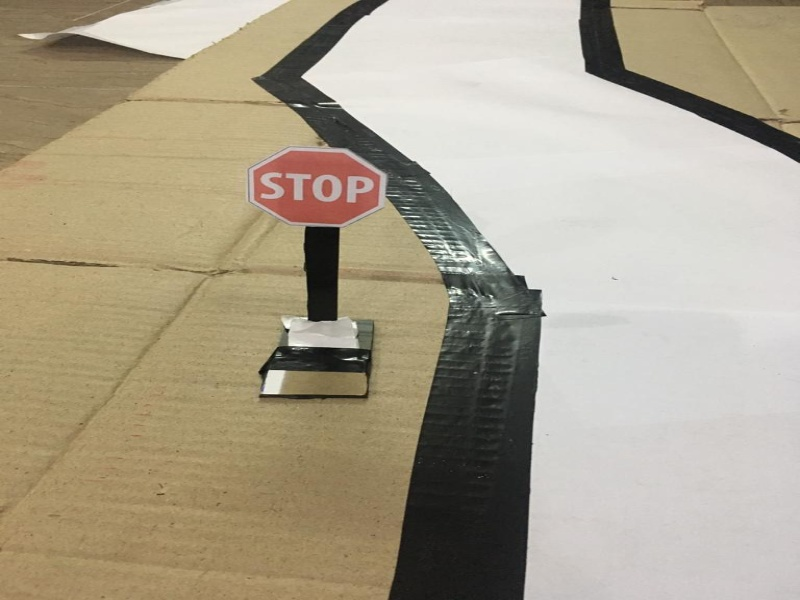Stop: (237, 140, 388, 228)
